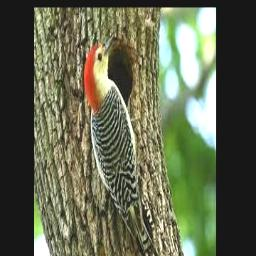Woodpecker: (84, 34, 161, 256)
